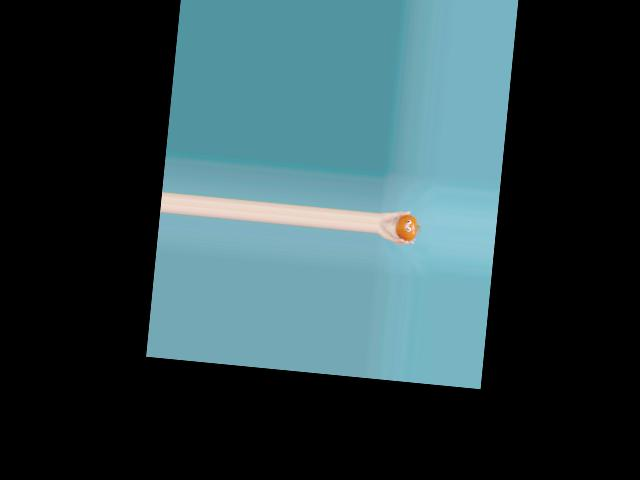tomato: (393, 213, 419, 241)
